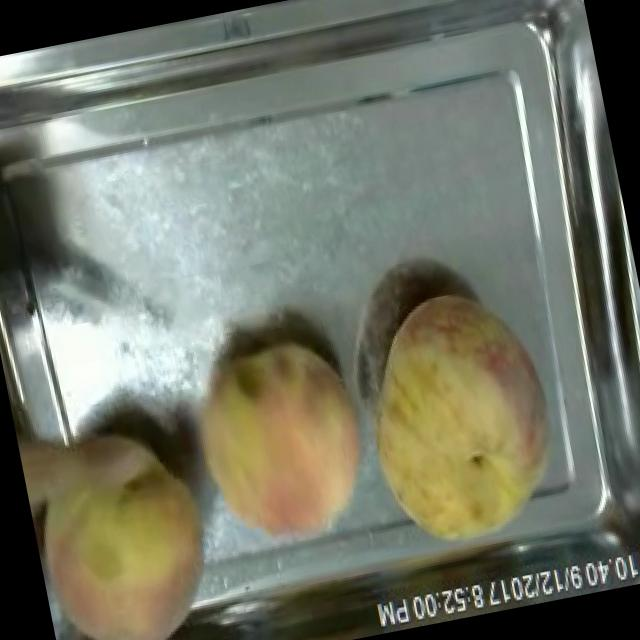Fruit: (338, 268, 585, 570), (13, 385, 241, 640), (169, 317, 392, 569)
